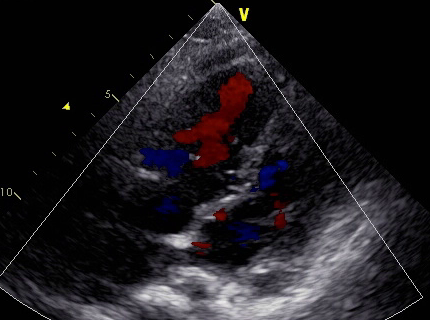TR: (167, 133, 225, 183)
